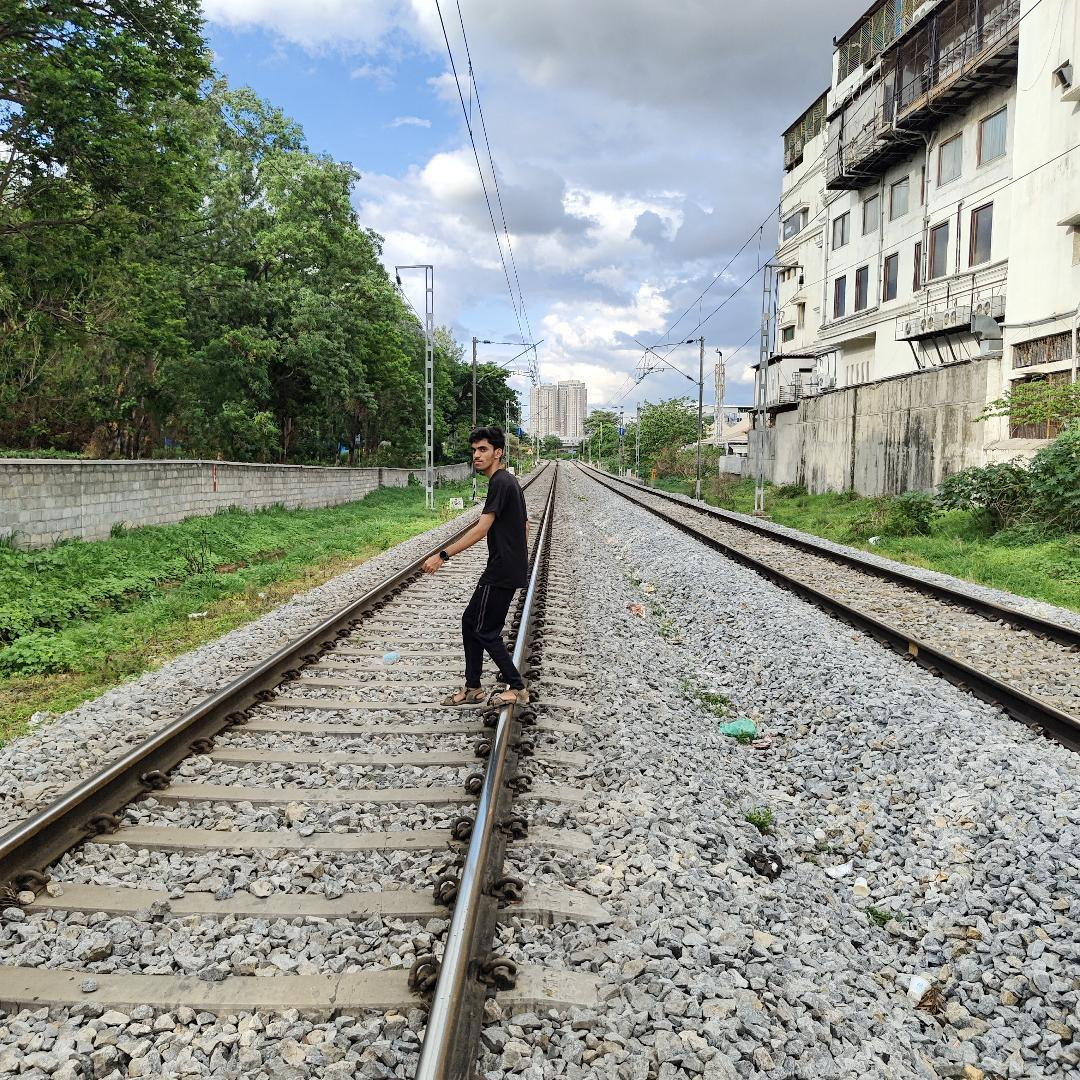standing: (417, 414, 538, 723)
